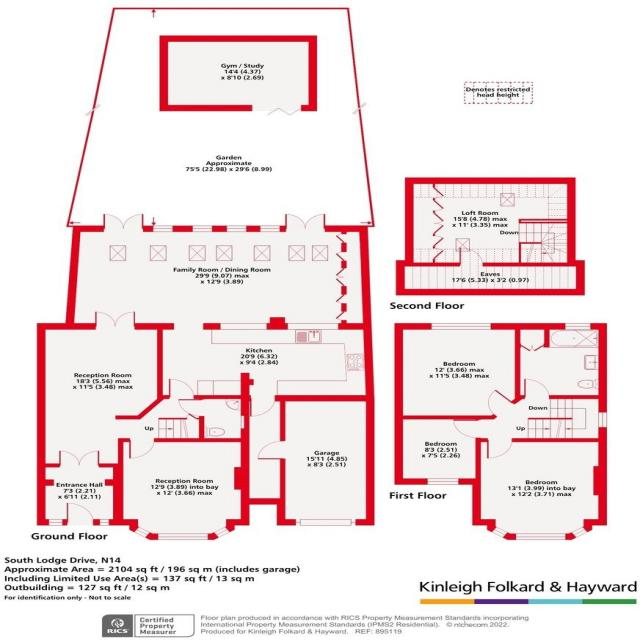DOOR: (487, 389, 515, 417), (66, 502, 94, 526), (249, 395, 276, 418), (452, 418, 481, 439), (486, 438, 513, 459), (523, 378, 550, 399), (128, 438, 155, 459), (168, 379, 195, 399), (177, 399, 204, 417)
DOUBLE DOOR: (102, 212, 144, 233), (94, 310, 136, 329), (283, 214, 325, 231), (58, 449, 100, 465)
ROOM: (65, 213, 372, 330), (157, 323, 374, 417), (37, 310, 164, 467), (112, 438, 250, 541), (472, 438, 607, 541), (394, 323, 521, 420), (394, 415, 481, 485)
WINDOW: (430, 322, 492, 330), (515, 533, 567, 541), (157, 533, 209, 541), (132, 525, 151, 539), (212, 525, 231, 539), (570, 526, 589, 539), (426, 478, 460, 485), (491, 526, 509, 538), (564, 323, 592, 330), (152, 225, 174, 233), (598, 412, 608, 428), (192, 225, 213, 232), (226, 225, 247, 232), (259, 225, 280, 232), (48, 519, 63, 526), (99, 519, 110, 526)
